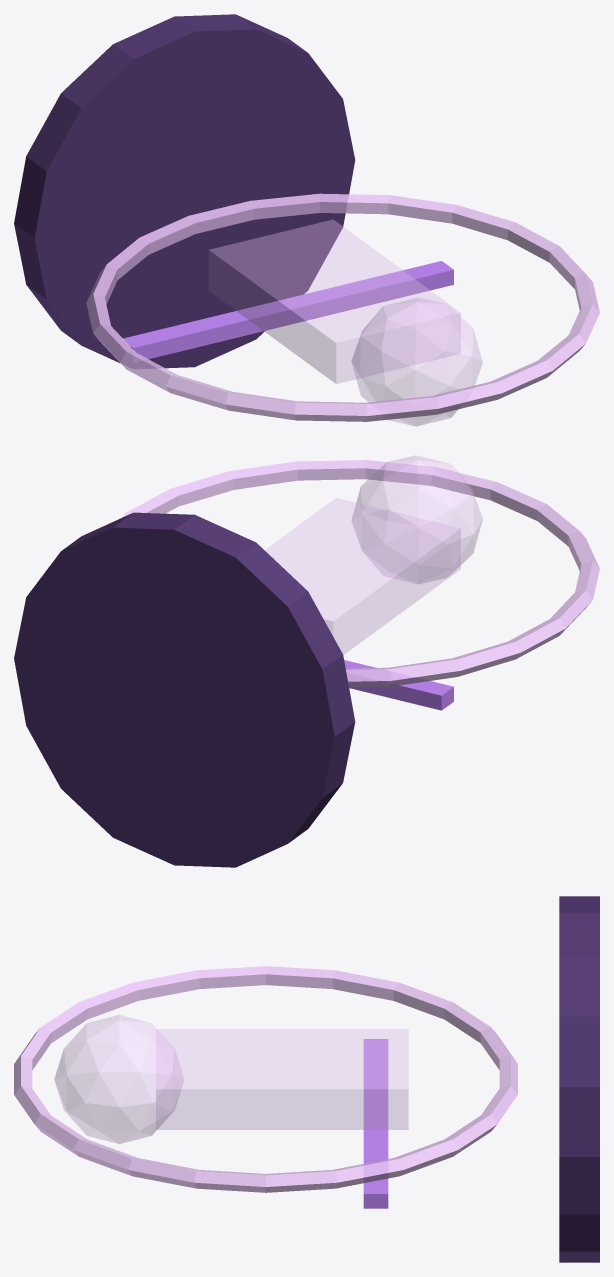
File: 07_support_npc_aura.glb
3 renders of one model, top to bottom at view 1: azimuth 30°, elevation 25°; view 2: azimuth 150°, elevation 25°; view 3: azimuth 270°, elevation 25°, orthographic.
Parts seen in each view (by area): view 1: npc_support_base, support_holo_body, ally_command_ring, support_holo_head, assist_beam_marker; view 2: npc_support_base, support_holo_body, ally_command_ring, support_holo_head, assist_beam_marker; view 3: support_holo_body, ally_command_ring, npc_support_base, support_holo_head, assist_beam_marker.
Part boxes in pixels (x1,y1,x2,y2): npc_support_base: [14, 14, 355, 368]; support_holo_body: [209, 219, 460, 383]; ally_command_ring: [86, 193, 599, 421]; support_holo_head: [351, 297, 482, 426]; assist_beam_marker: [121, 261, 453, 362]; npc_support_base: [14, 512, 355, 867]; support_holo_body: [265, 498, 460, 654]; ally_command_ring: [121, 460, 599, 687]; support_holo_head: [352, 455, 482, 583]; assist_beam_marker: [344, 660, 453, 710]; support_holo_body: [156, 1029, 408, 1129]; ally_command_ring: [14, 966, 517, 1192]; npc_support_base: [559, 896, 599, 1262]; support_holo_head: [54, 1015, 183, 1143]; assist_beam_marker: [363, 1039, 388, 1208].
Size of the model in its own units: 1.25 by 0.9 by 1.44.
